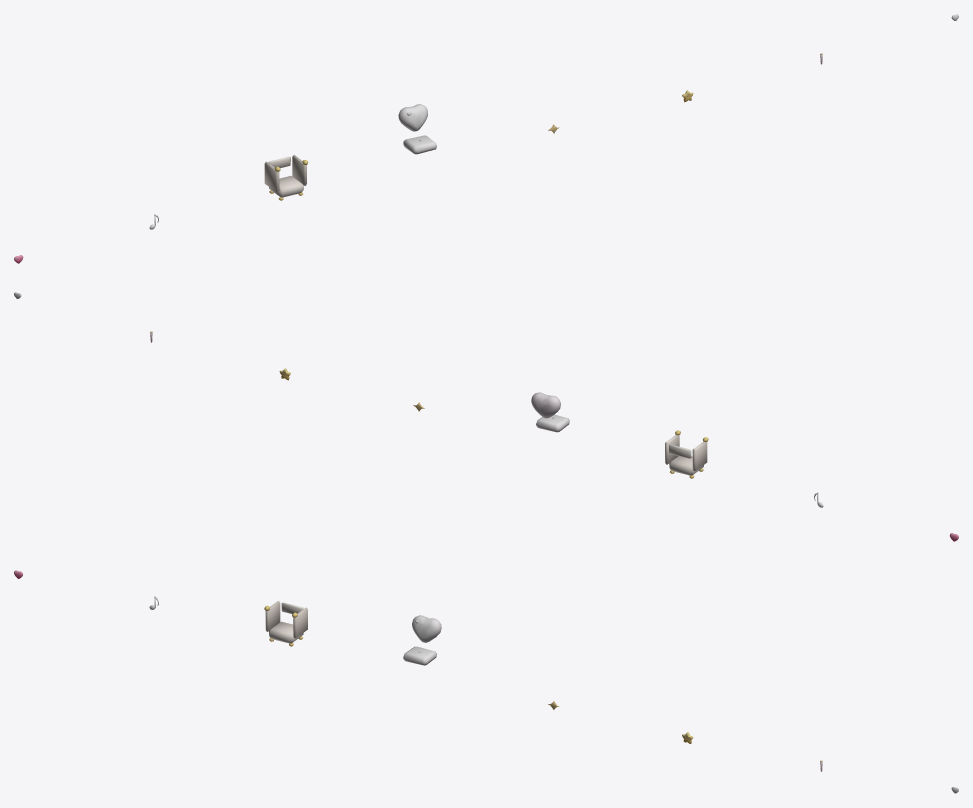
File: prp_stage_seat_lite.glb
3 views of the same model, one above another, from view 1: azimuth 30°, elevation 25°; view 2: azimuth 150°, elevation 25°; view 3: azimuth 330°, elevation 25° (orthographic).
Visible parts, largest first — view 1: INST_prp_stage_seat_lite_seat_frame, INST_prp_stage_seat_lite_seat_pad; view 2: INST_prp_stage_seat_lite_seat_frame, INST_prp_stage_seat_lite_seat_pad; view 3: INST_prp_stage_seat_lite_seat_frame, INST_prp_stage_seat_lite_seat_pad.
Part boxes in pixels (box(x1,y1,x2,y2)): INST_prp_stage_seat_lite_seat_frame: box(264, 155, 308, 200); INST_prp_stage_seat_lite_seat_pad: box(398, 104, 436, 154); INST_prp_stage_seat_lite_seat_frame: box(665, 430, 708, 478); INST_prp_stage_seat_lite_seat_pad: box(531, 392, 569, 432); INST_prp_stage_seat_lite_seat_frame: box(264, 600, 307, 646); INST_prp_stage_seat_lite_seat_pad: box(403, 615, 441, 665).
Bounding box in the file's own units: 21.18 × 1.19 × 0.6835.
